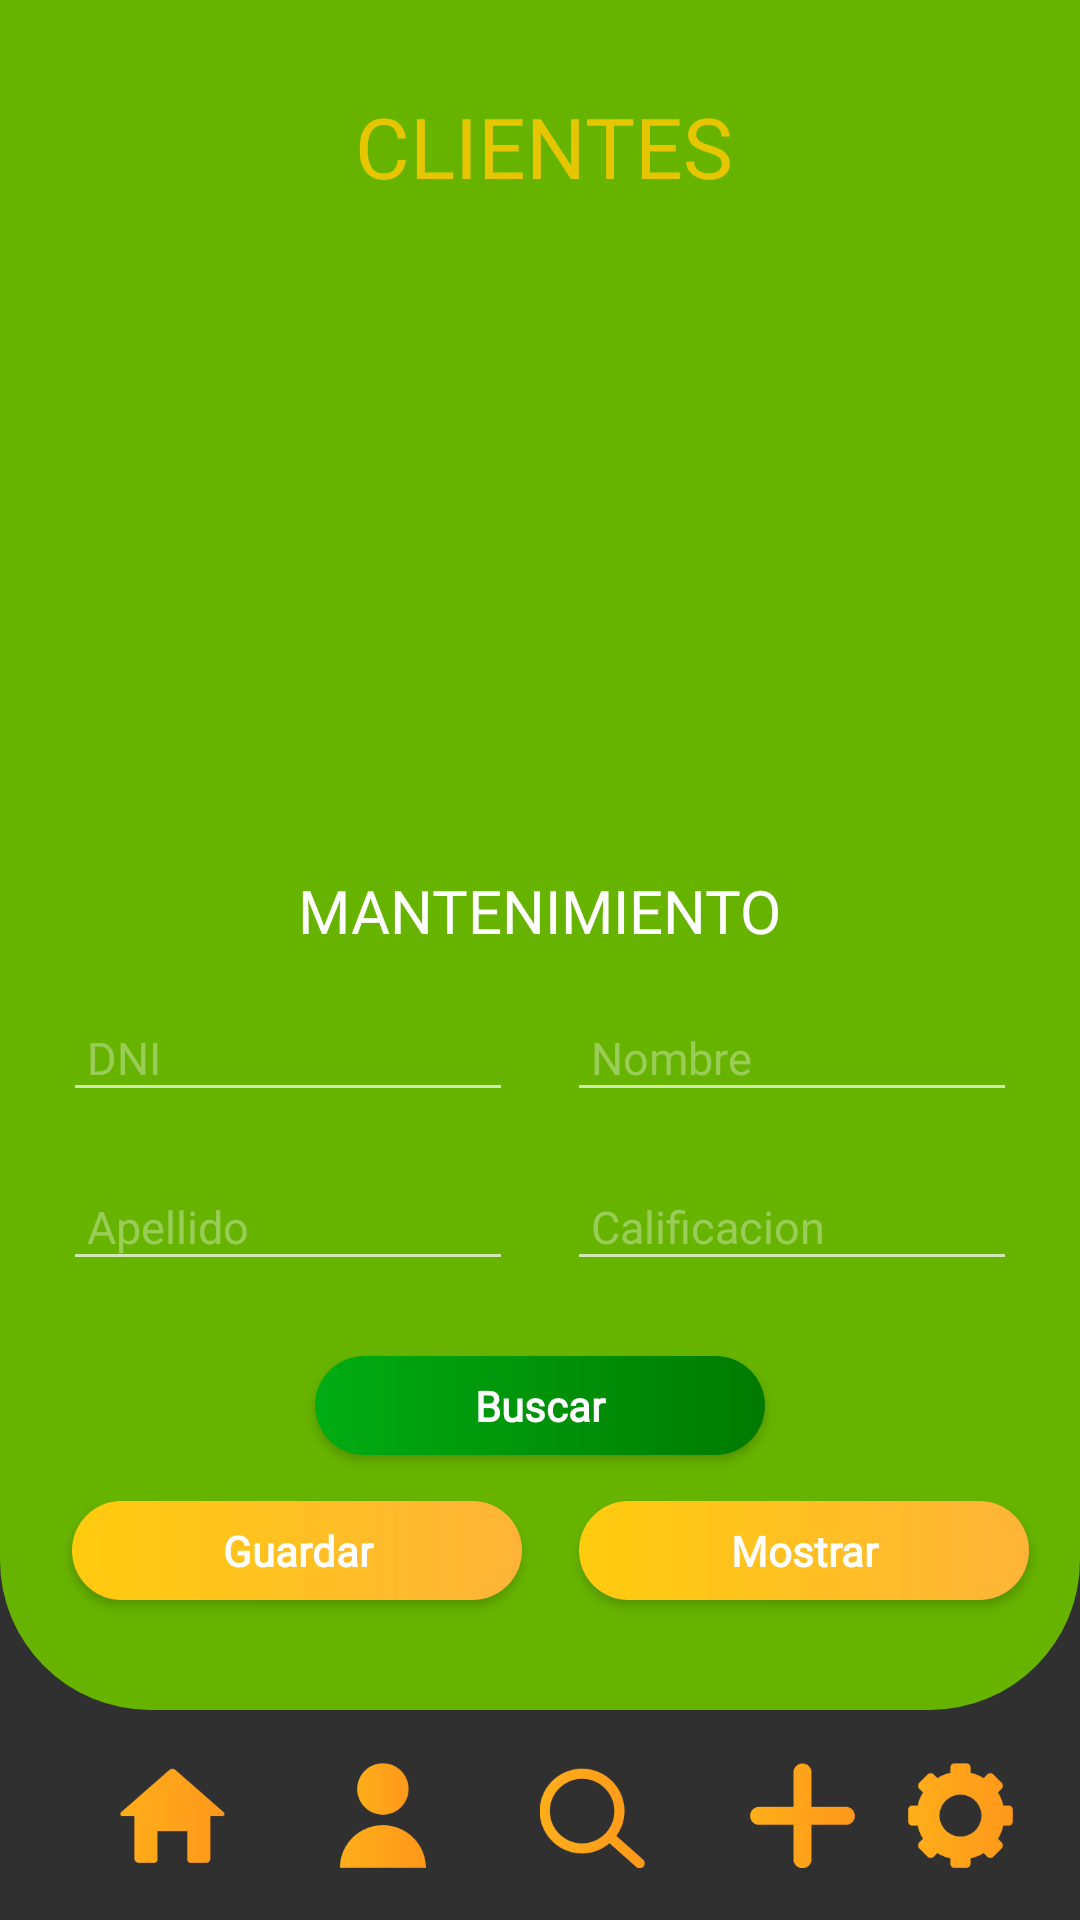

Named icons in this screenshot (1080px x 1920px) and their centers, [x,y]:
ajustes: [960,1815]
busqueda: [592,1818]
casa: [172,1815]
mas: [802,1815]
usuario: [383,1815]
